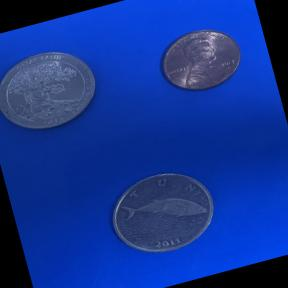Croatia-2Kune-B: (97, 156, 231, 270)
US-1cent-B: (149, 16, 255, 106)
US-25cent-B: (0, 35, 110, 147)
